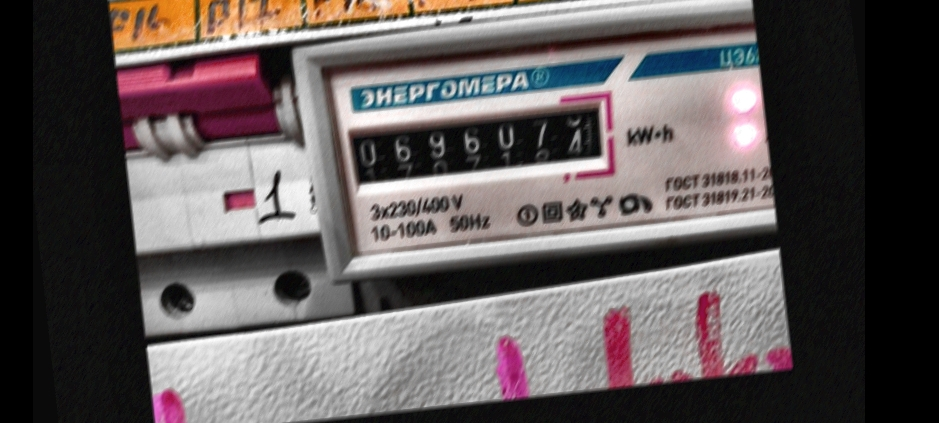0: (496, 119, 518, 151), (358, 137, 379, 167)
4: (566, 127, 585, 156)
6: (393, 132, 415, 162), (461, 125, 483, 155)
7: (532, 117, 552, 149)
9: (428, 130, 448, 159)
screen: (333, 83, 626, 203)
